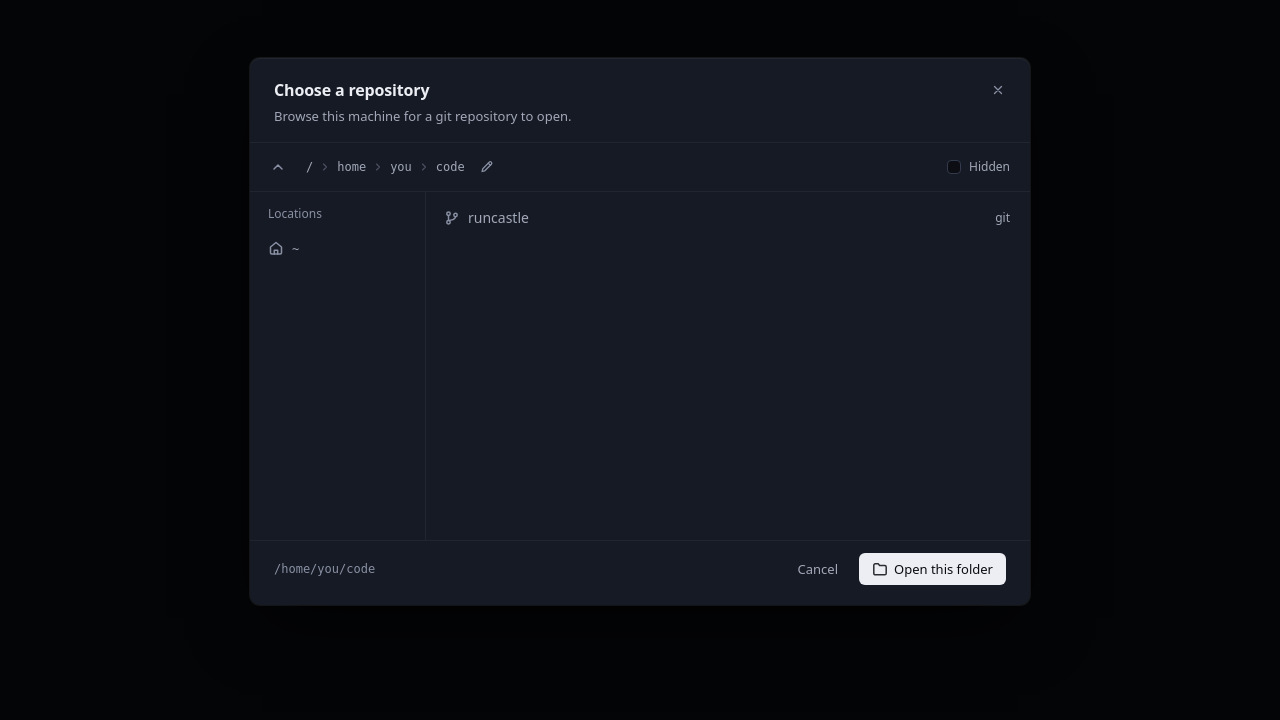
DirectoryPicker › jumps to a root from the rail
Expected: the button "runcastle git" is shown, [434,200,1022,236]
Click the button "~" at (338,248), box [258,230,417,266]
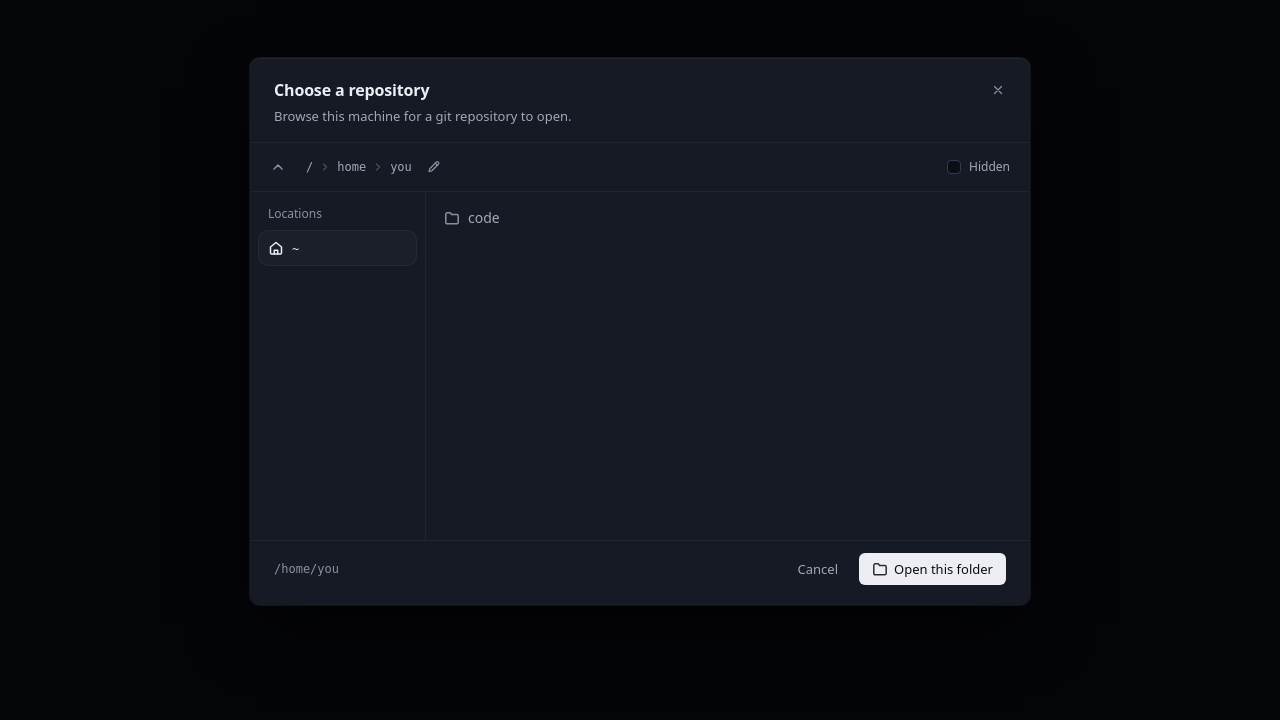
Expected: the button "code" is shown, [434,200,1022,236]
Expected: the button "runcastle" is gone
